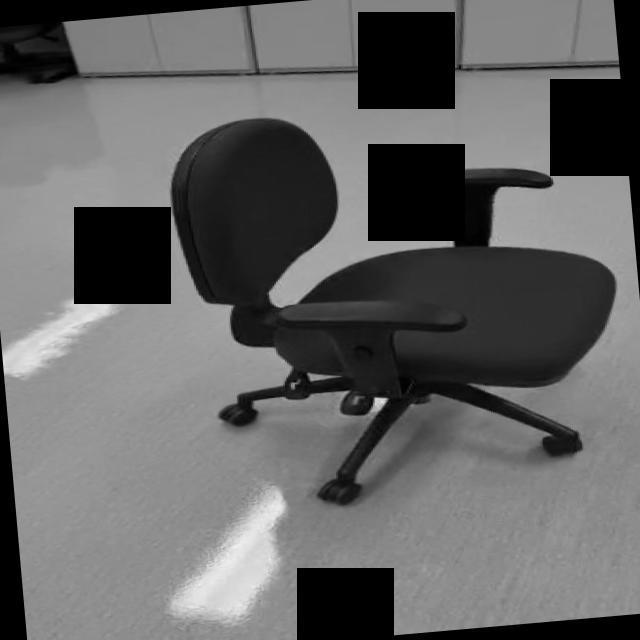chair: (164, 86, 634, 516)
